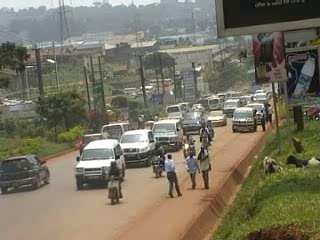Car: (73, 136, 126, 189), (0, 152, 52, 194), (116, 127, 159, 171), (76, 129, 117, 157), (178, 110, 206, 134), (201, 106, 230, 128), (164, 110, 184, 124)
Motorcycle: (102, 159, 128, 208), (148, 140, 166, 177), (179, 133, 198, 163), (196, 122, 212, 152), (143, 112, 162, 128), (204, 119, 217, 142)
